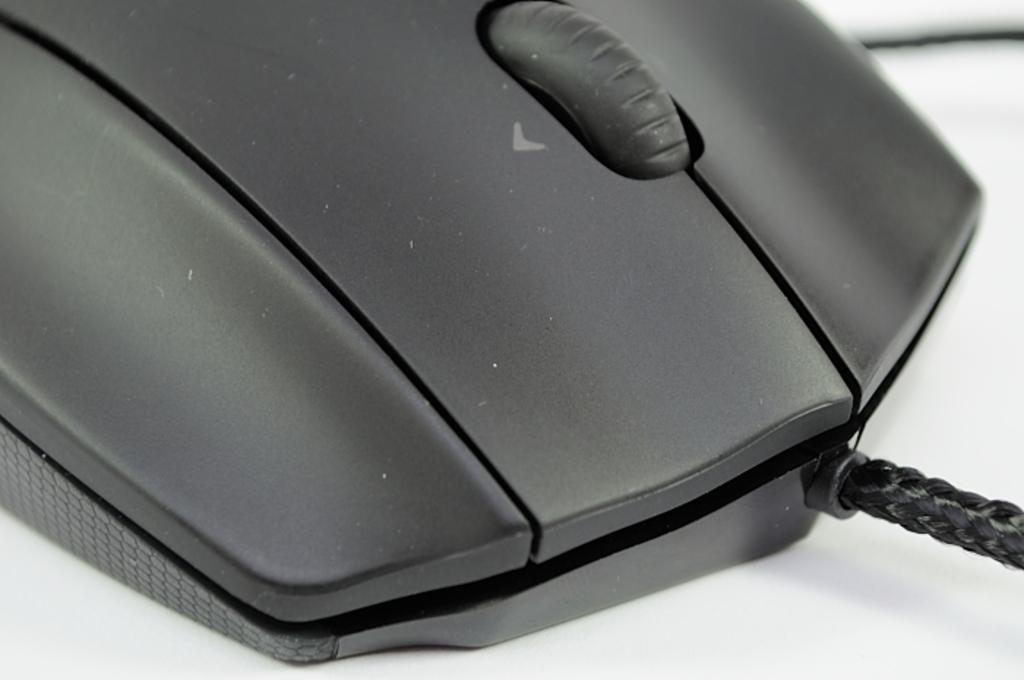Computer-mouse: (0, 0, 985, 668)
